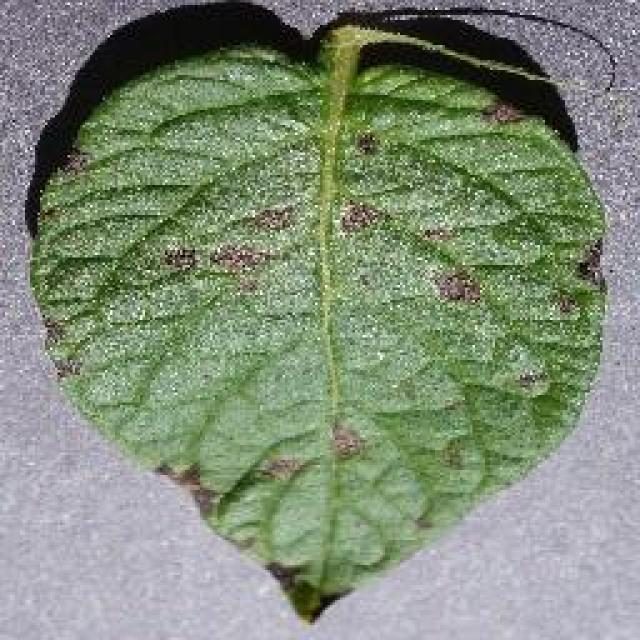Potato___Early_blight: (29, 18, 611, 632)
